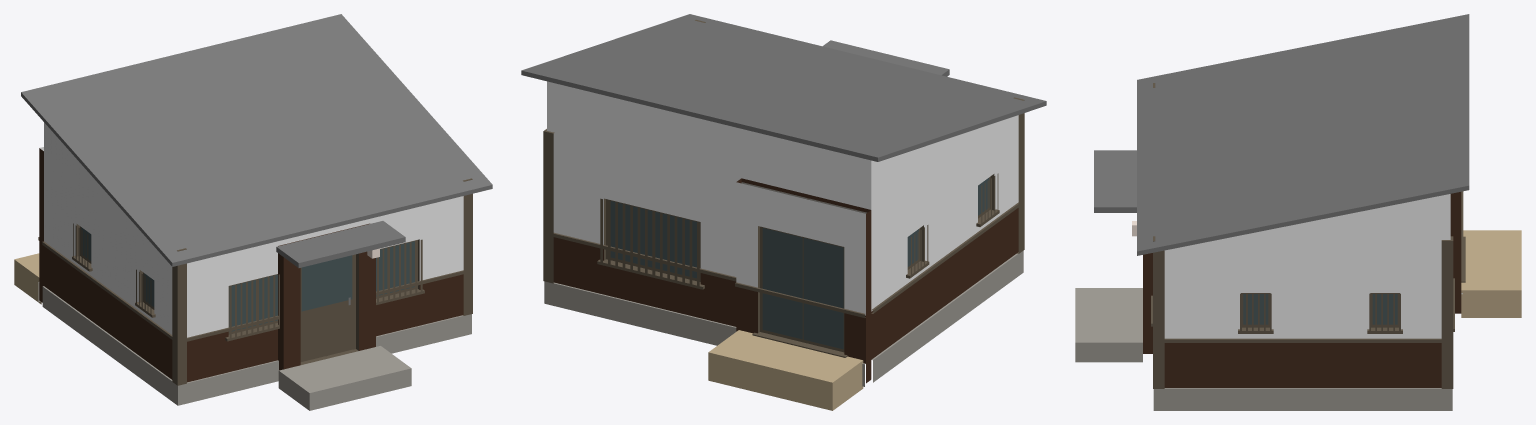
Rendered from mashup-hut_japanese-top-prebuilt.fbx.
3 renders of one model, left to right at view 1: azimuth 30°, elevation 25°; view 2: azimuth 150°, elevation 25°; view 3: azimuth 270°, elevation 25°, orthographic. The views are drawn at different scales.
Parts seen in each view (by area): view 1: a2015.hut_japanese; view 2: a2015.hut_japanese; view 3: a2015.hut_japanese.
Boxes of the visible parts, x1,y1,x2,y2 form: a2015.hut_japanese: [14, 14, 492, 410]; a2015.hut_japanese: [521, 14, 1046, 410]; a2015.hut_japanese: [1075, 14, 1521, 410].
Bounding box in the file's own units: 6.6 × 4.22 × 7.25.
